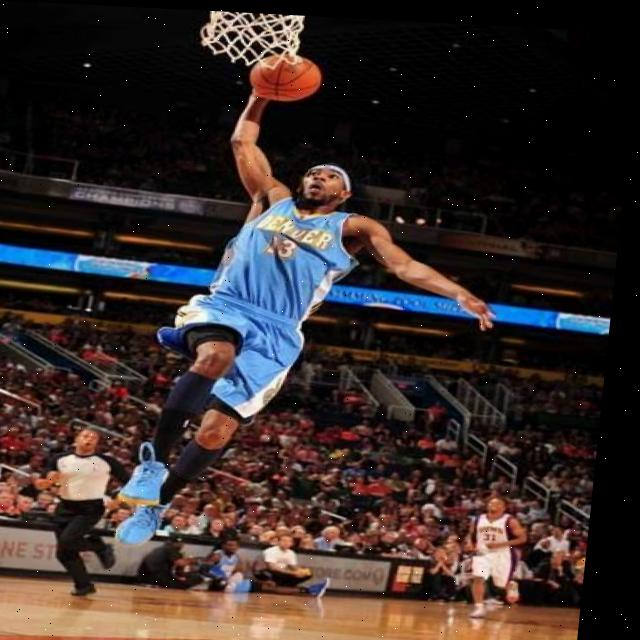basketball: (248, 53, 321, 102)
hoop: (197, 10, 310, 66)
